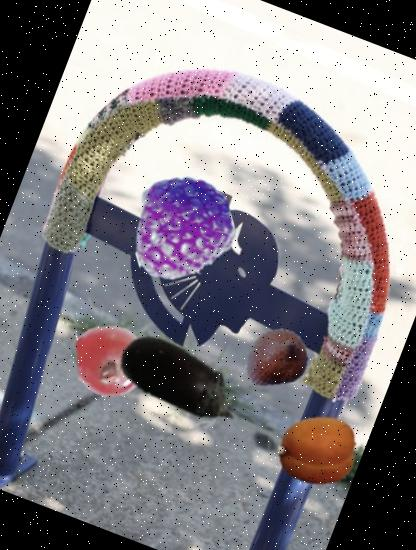Apricot: (266, 400, 368, 502)
Eggplant: (95, 294, 267, 466)
Raspberry: (114, 161, 247, 294)
Redcurrant: (63, 314, 157, 408)
Salak: (234, 316, 318, 400)
